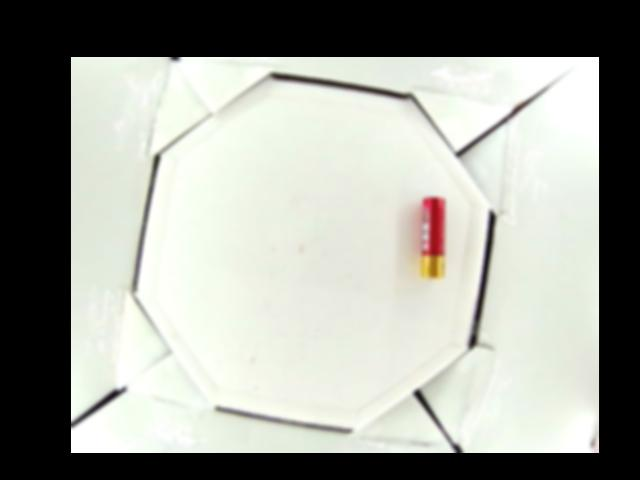Battery: (420, 195, 446, 280)
